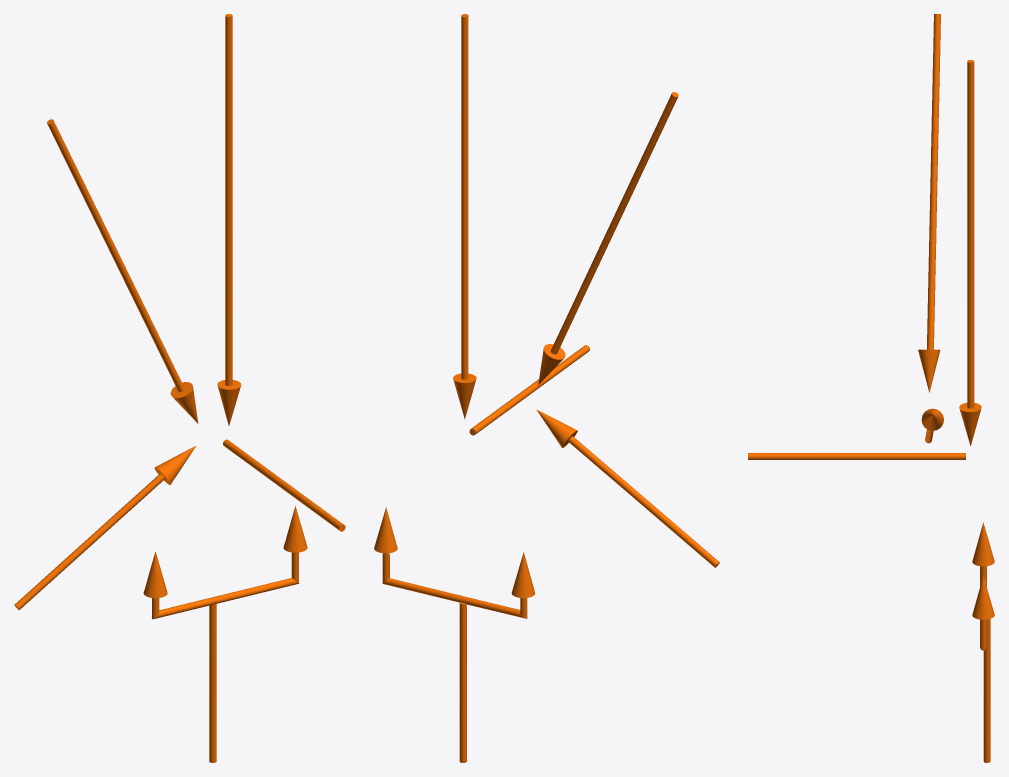
The model's file is s4arrow.glb.
3 views of the same model, side by side, from view 1: azimuth 30°, elevation 25°; view 2: azimuth 150°, elevation 25°; view 3: azimuth 270°, elevation 25° (orthographic). The views are drawn at different scales.
Visible parts, largest first — view 1: Node; view 2: Node; view 3: Node.
Part boxes in pixels (x1,y1,x2,y2): Node: (14,14,345,762); Node: (374,14,719,762); Node: (748,14,994,762).
Size of the model in its own units: 5.89 by 13.19 by 4.19.
